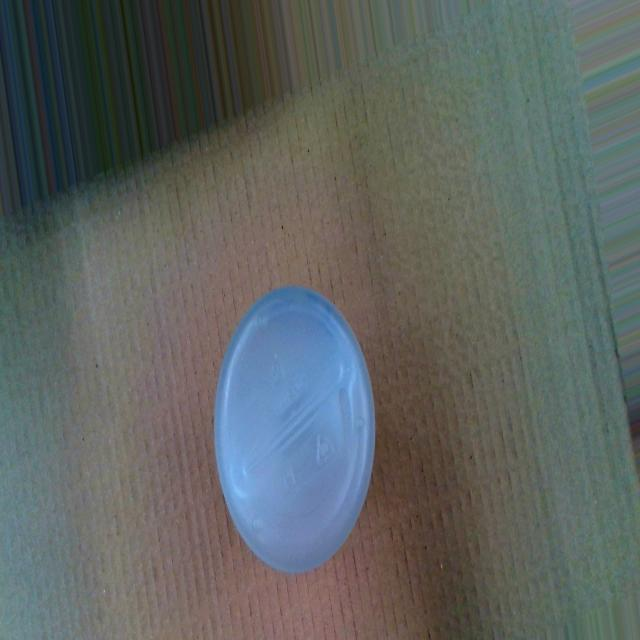bottle: (212, 284, 378, 574)
